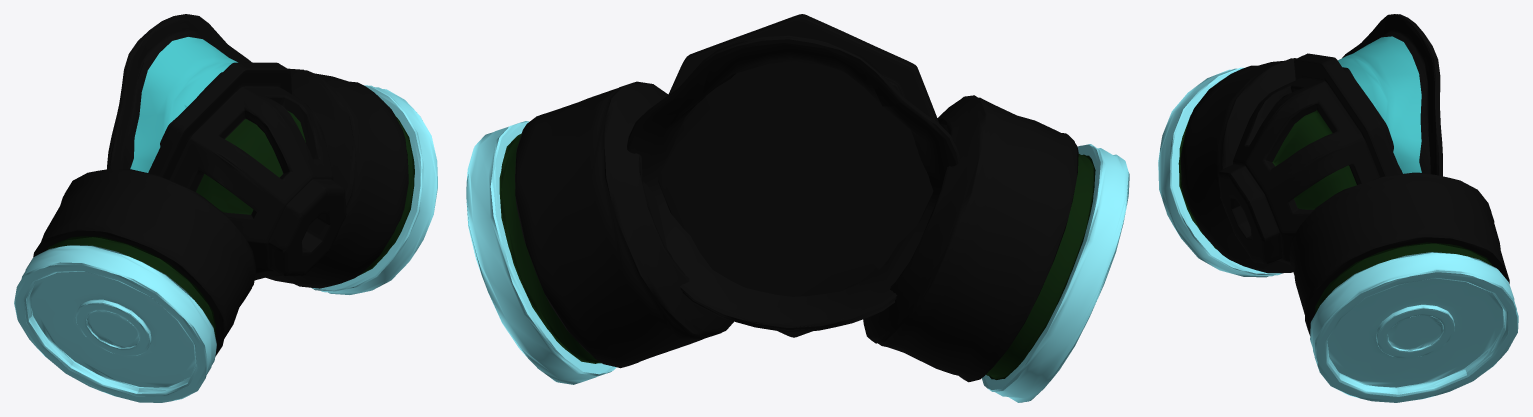
3 views of the same model, side by side, from view 1: azimuth 30°, elevation 25°; view 2: azimuth 150°, elevation 25°; view 3: azimuth 270°, elevation 25° (orthographic). The views are drawn at different scales.
Parts seen in each view (by area): view 1: gas_mask_cylinder, 347, gas_mask_base; view 2: gas_mask_cylinder, 347, gas_mask_base; view 3: gas_mask_cylinder, 347, gas_mask_base.
Part boxes in pixels (bbox=[...]): gas_mask_cylinder: bbox=[14, 68, 437, 402]; 347: bbox=[148, 62, 346, 280]; gas_mask_base: bbox=[107, 14, 251, 172]; gas_mask_cylinder: bbox=[466, 81, 1129, 402]; 347: bbox=[658, 14, 939, 337]; gas_mask_base: bbox=[627, 35, 959, 331]; gas_mask_cylinder: bbox=[1158, 58, 1518, 402]; 347: bbox=[1218, 53, 1402, 265]; gas_mask_base: bbox=[1338, 14, 1442, 176].
Bounding box in the file's own units: 53.25 × 38.04 × 35.3.
